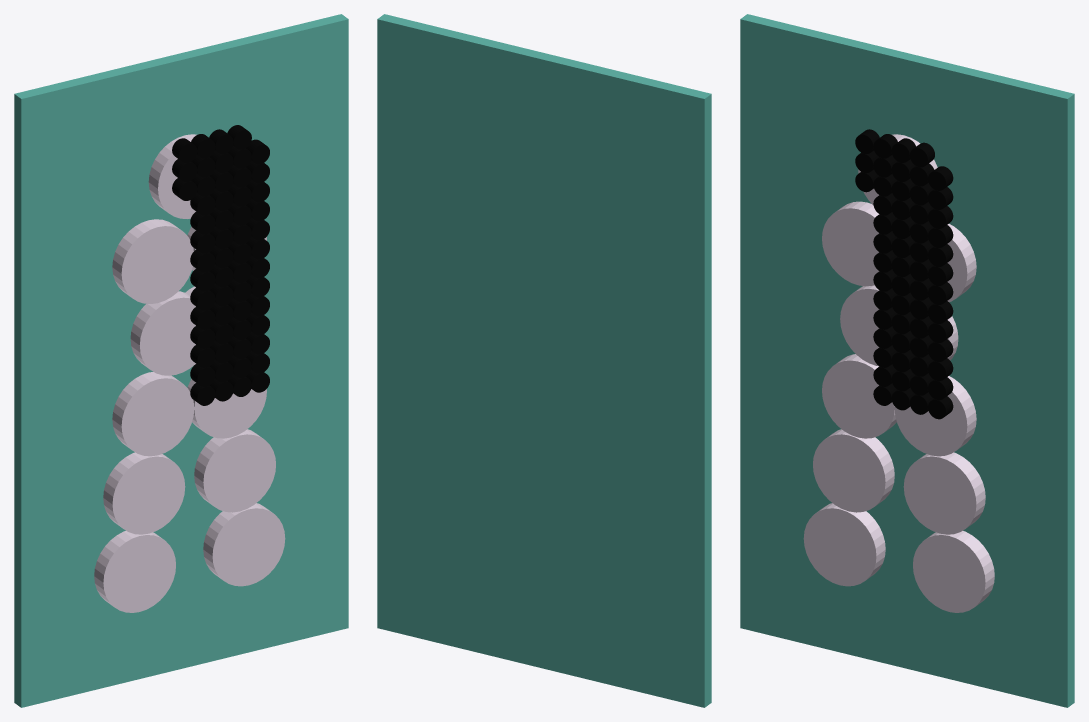
The model's file is artwork.glb.
The picture shows the model from 3 angles, left to right: view 1: azimuth 30°, elevation 25°; view 2: azimuth 150°, elevation 25°; view 3: azimuth 330°, elevation 25°; orthographic projection.
Parts seen in each view (by area): view 1: 01.Backing.web, 01.body-grid.Geometry.web, 02.hair-grid.Geometry.003.web, 01.body-grid.02.Geometry.web; view 2: 01.Backing.web; view 3: 01.Backing.web, 01.body-grid.Geometry.web, 02.hair-grid.Geometry.003.web, 01.body-grid.02.Geometry.web.
Boxes of the visible parts, <box> form: 01.Backing.web: <box>14,14,348,707</box>; 01.body-grid.Geometry.web: <box>94,134,285,612</box>; 02.hair-grid.Geometry.003.web: <box>172,125,269,405</box>; 01.body-grid.02.Geometry.web: <box>103,429,275,534</box>; 01.Backing.web: <box>377,14,711,707</box>; 01.Backing.web: <box>740,14,1074,707</box>; 01.body-grid.Geometry.web: <box>803,134,994,612</box>; 02.hair-grid.Geometry.003.web: <box>855,129,953,419</box>; 01.body-grid.02.Geometry.web: <box>813,429,985,534</box>.
Size of what is drawn, in the model's own units: 2.25 by 4 by 0.34.
